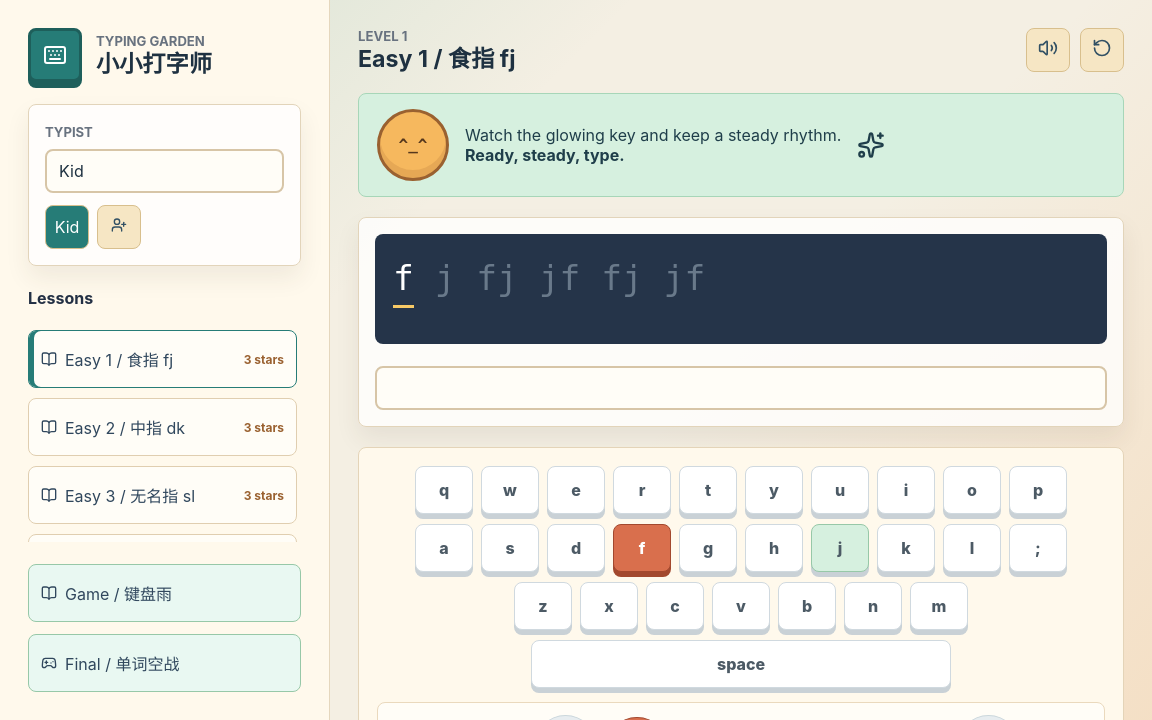
Test: App › runs the final word plane game when it is unlocked
Click the button "Final / 单词空战" at (164, 663), box [28,634,301,692]
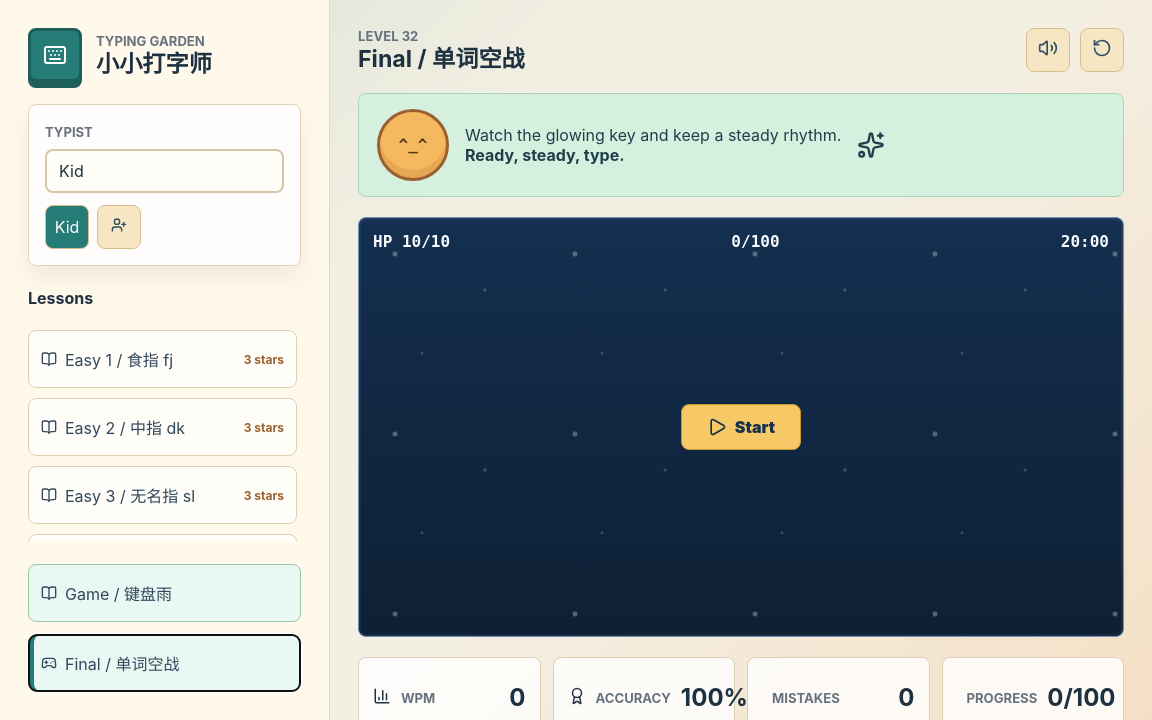
Click the button "Start" at (741, 427), box [681,404,801,450]
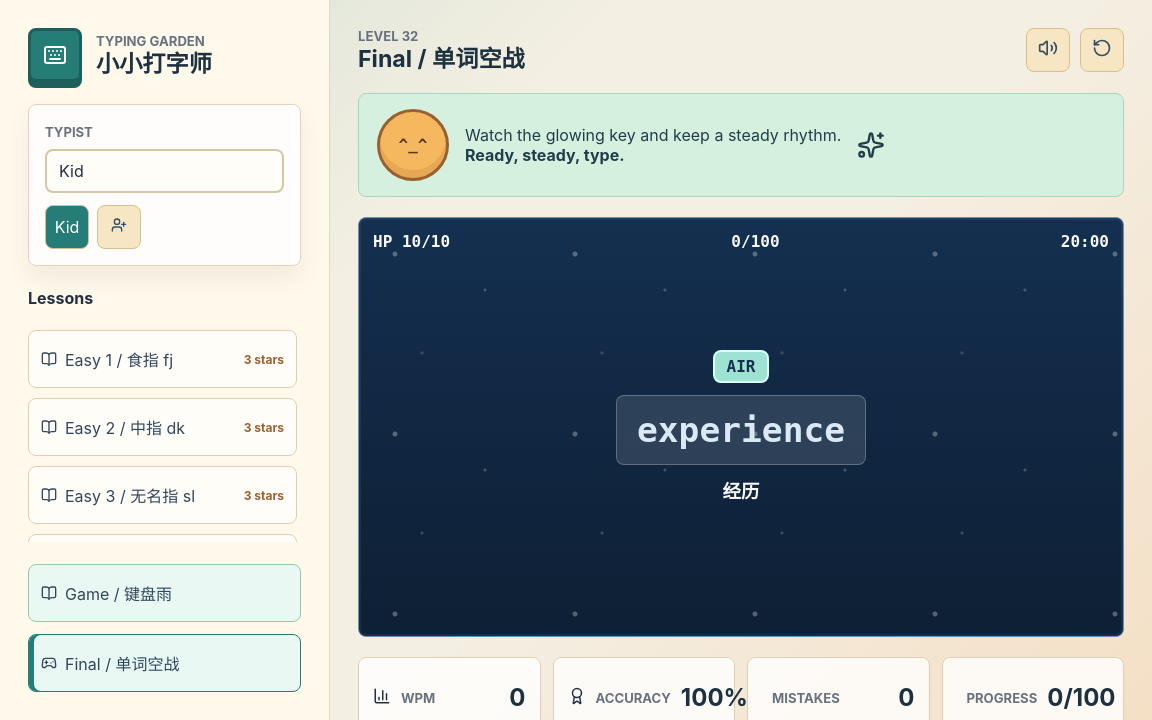
Check: the text "HP 10/10" is shown, box [373,232,450,251]
Check: the text "0/100" in the row of "20:00" is shown, box [731,232,780,251]
Check: the text "20:00" is shown, box [1061,232,1109,251]
Type keys "#"
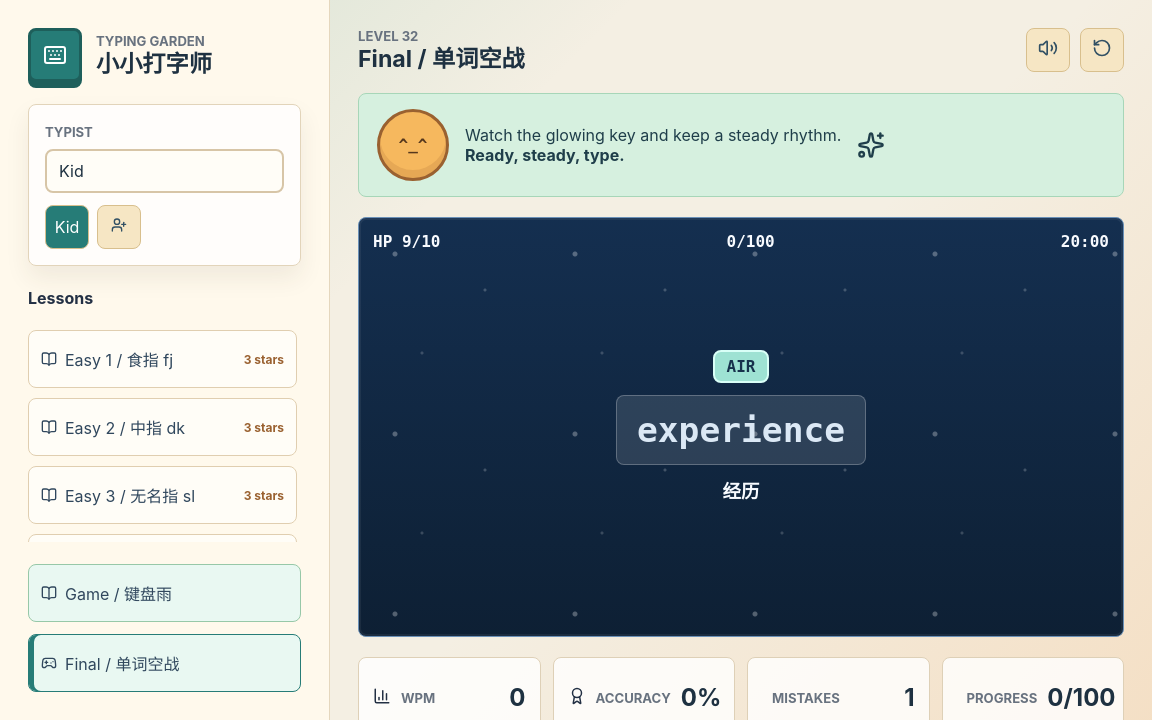
Check: the text "HP 9/10" is shown, box [373,232,440,251]
